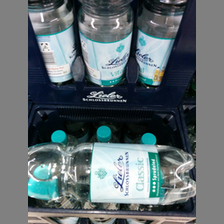water: (28, 143, 196, 206), (77, 1, 133, 86), (136, 1, 185, 87), (28, 1, 77, 85)
